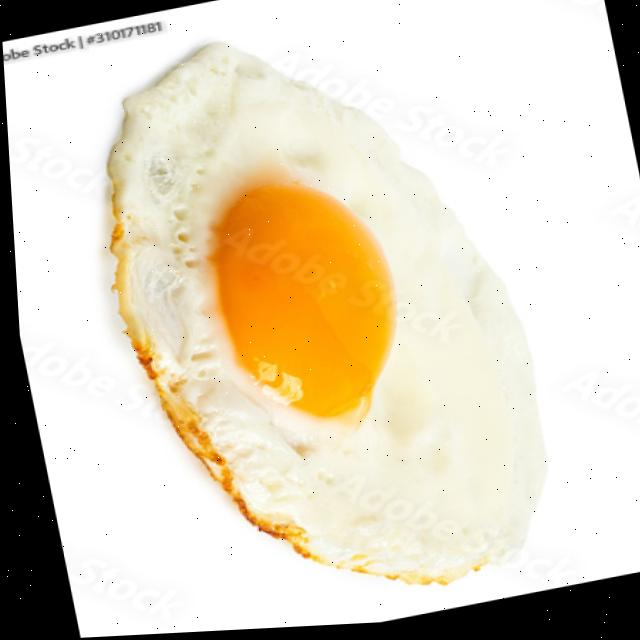Egg: (105, 46, 539, 587)
